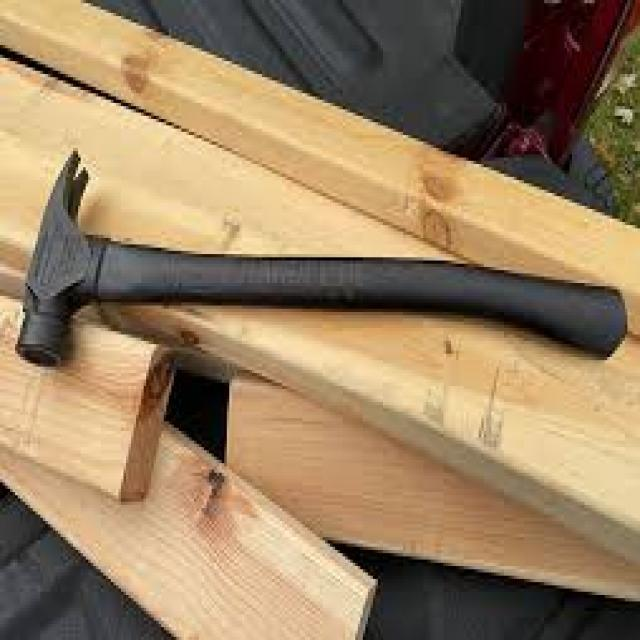hammer: (14, 148, 629, 379)
